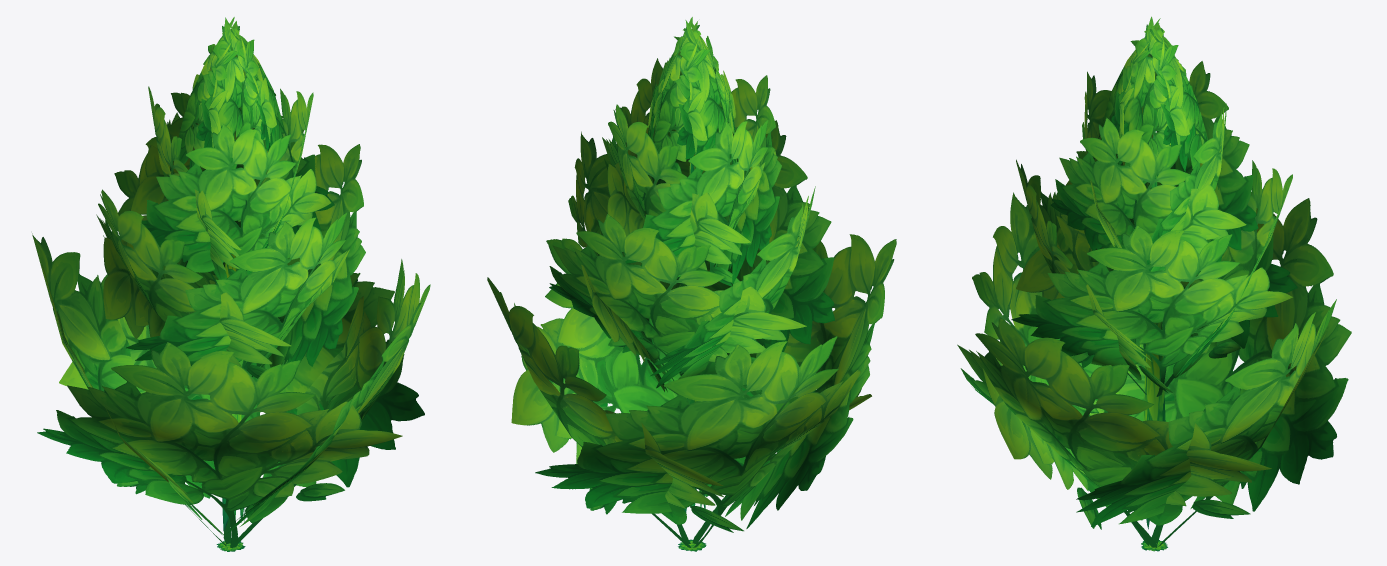
File: Shrub.FBX
The picture shows the model from 3 angles, left to right: view 1: azimuth 30°, elevation 25°; view 2: azimuth 150°, elevation 25°; view 3: azimuth 270°, elevation 25°; orthographic projection.
Parts seen in each view (by area): view 1: Shrub; view 2: Shrub; view 3: Shrub.
Part boxes in pixels (x1=…): Shrub: x1=32, y1=17, x2=430, y2=551; Shrub: x1=487, y1=17, x2=896, y2=551; Shrub: x1=957, y1=16, x2=1351, y2=551.
Size of the model in its own units: 182 by 246 by 182.
